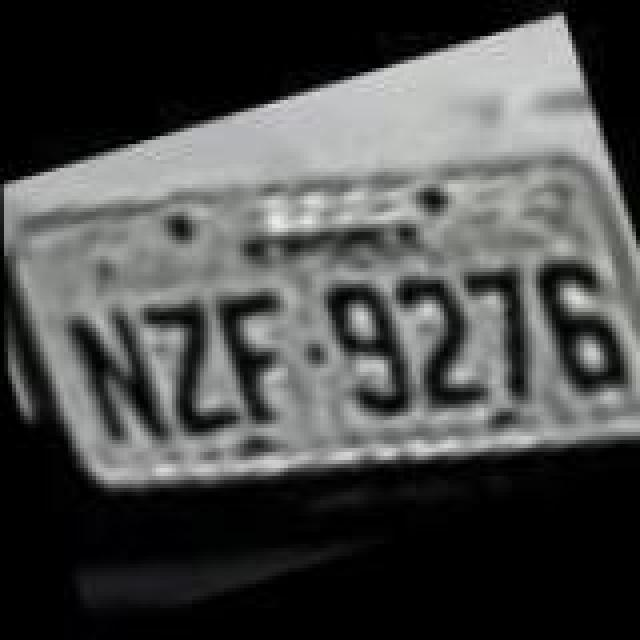2: (384, 254, 488, 410)
6: (524, 242, 628, 398)
7: (448, 250, 552, 410)
9: (310, 266, 418, 426)
F: (206, 276, 310, 424)
N: (58, 290, 162, 446)
Z: (138, 286, 242, 442)
